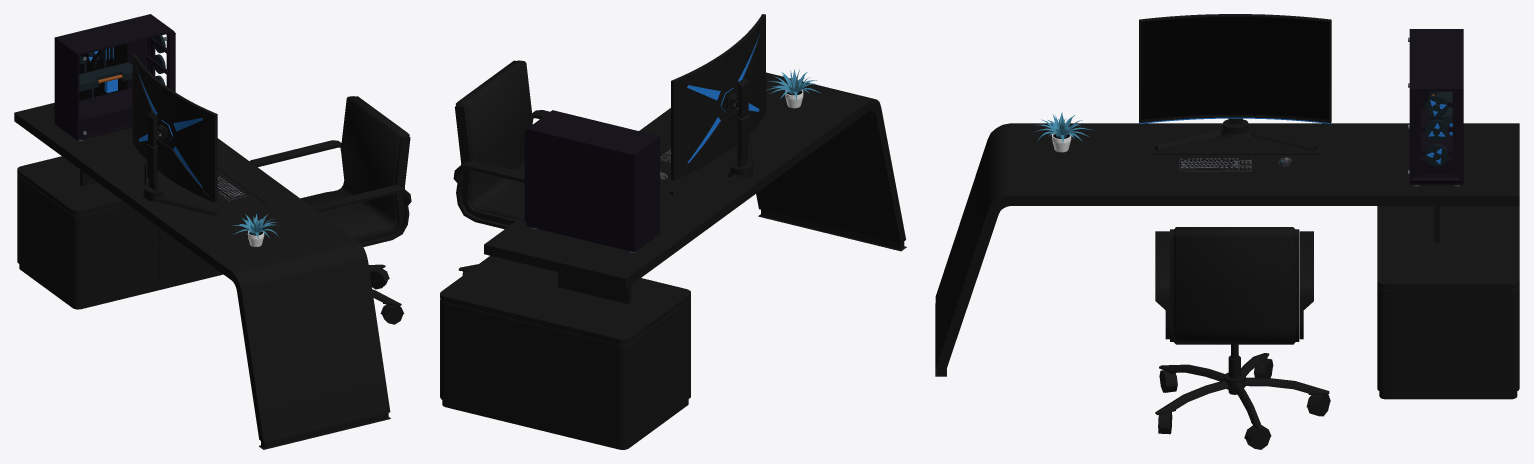
Rendered from office.glb.
3 renders of one model, left to right at view 1: azimuth 30°, elevation 25°; view 2: azimuth 150°, elevation 25°; view 3: azimuth 270°, elevation 25°, orthographic. The views are drawn at different scales.
Visible parts, largest first — view 1: dlX - Desk (Jahnke CSL 465 E), OfficeChair_Modern, group_2_Material.003_0, Casing.004_17, Casing.006_35, Component.030_106, Component.001_71, group_1.011__0136_Charcoal_0, Casing.001_14, group_1.010__0136_Charcoal_0, Plane.003_7.001, Casing.016_27; view 2: dlX - Desk (Jahnke CSL 465 E), OfficeChair_Modern, Casing.001_14, group_2_Material.003_0, Casing.004_17, Casing.006_35, group_1.011__0136_Charcoal_0, Casing.017_28, group_1.010__0136_Charcoal_0; view 3: dlX - Desk (Jahnke CSL 465 E), OfficeChair_Modern, display, Casing.004_17, group_2_Material.003_0, group_1.011__0136_Charcoal_0, Plane.003_7.001, Component.030_106, Casing.012_20, Casing.011_19.
Part boxes in pixels (left/top/right/bottom): dlX - Desk (Jahnke CSL 465 E): left=14, top=103, right=390, bottom=449; OfficeChair_Modern: left=249, top=96, right=411, bottom=324; group_2_Material.003_0: left=132, top=54, right=217, bottom=202; Casing.004_17: left=54, top=15, right=169, bottom=55; Casing.006_35: left=54, top=39, right=79, bottom=138; Component.030_106: left=79, top=87, right=132, bottom=137; Component.001_71: left=79, top=44, right=127, bottom=100; group_1.011__0136_Charcoal_0: left=143, top=162, right=217, bottom=215; Casing.001_14: left=127, top=39, right=147, bottom=87; group_1.010__0136_Charcoal_0: left=147, top=144, right=157, bottom=190; Plane.003_7.001: left=217, top=174, right=246, bottom=201; Casing.016_27: left=168, top=33, right=175, bottom=91; dlX - Desk (Jahnke CSL 465 E): left=440, top=72, right=906, bottom=449; OfficeChair_Modern: left=453, top=60, right=549, bottom=275; Casing.001_14: left=531, top=132, right=632, bottom=249; group_2_Material.003_0: left=671, top=14, right=765, bottom=180; Casing.004_17: left=531, top=111, right=660, bottom=156; Casing.006_35: left=633, top=138, right=660, bottom=250; group_1.011__0136_Charcoal_0: left=670, top=136, right=753, bottom=195; Casing.017_28: left=524, top=133, right=531, bottom=221; group_1.010__0136_Charcoal_0: left=737, top=115, right=748, bottom=167; dlX - Desk (Jahnke CSL 465 E): left=935, top=123, right=1519, bottom=399; OfficeChair_Modern: left=1155, top=227, right=1330, bottom=449; display: left=1141, top=17, right=1328, bottom=119; Casing.004_17: left=1409, top=29, right=1463, bottom=81; group_2_Material.003_0: left=1139, top=14, right=1331, bottom=123; group_1.011__0136_Charcoal_0: left=1154, top=119, right=1317, bottom=151; Plane.003_7.001: left=1179, top=158, right=1251, bottom=172; Component.030_106: left=1420, top=109, right=1452, bottom=173; Casing.012_20: left=1452, top=91, right=1459, bottom=175; Casing.011_19: left=1414, top=91, right=1420, bottom=175.
Size of what is drawn, in the model's own units: 1.31 by 1.26 by 2.18.
19 materials, 2 textured.
